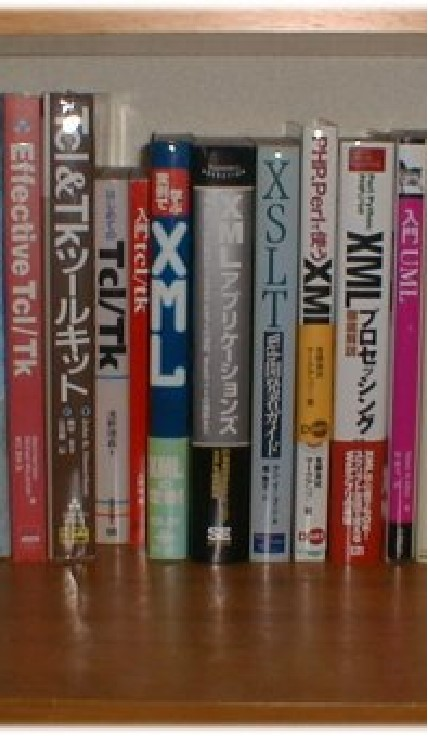book: (190, 136, 255, 560), (328, 134, 390, 566), (39, 86, 95, 559), (1, 85, 52, 564), (291, 122, 338, 566), (146, 136, 192, 562), (251, 132, 295, 566), (387, 136, 422, 567), (92, 174, 129, 542), (128, 174, 150, 549)
